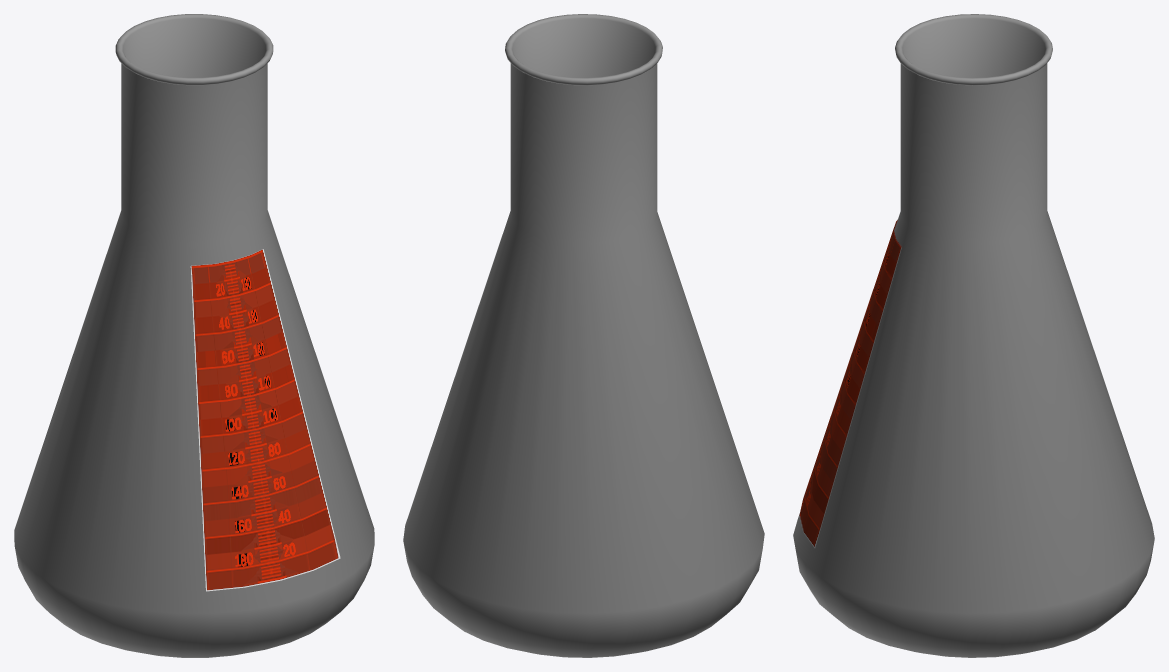
Rendered from SM_三角瓶.fbx.
The picture shows the model from 3 angles, left to right: view 1: azimuth 30°, elevation 25°; view 2: azimuth 150°, elevation 25°; view 3: azimuth 270°, elevation 25°; orthographic projection.
Visible parts, largest first — view 1: SM_三角瓶; view 2: SM_三角瓶; view 3: SM_三角瓶.
Boxes of the visible parts, x1,y1,x2,y2 form: SM_三角瓶: (14, 14, 374, 657); SM_三角瓶: (403, 14, 764, 657); SM_三角瓶: (793, 14, 1154, 657).
Bounding box in the file's own units: 0.0931 × 0.1593 × 0.0931.
